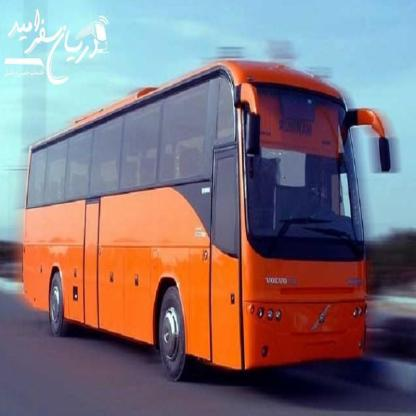Bus: (23, 51, 380, 392)
